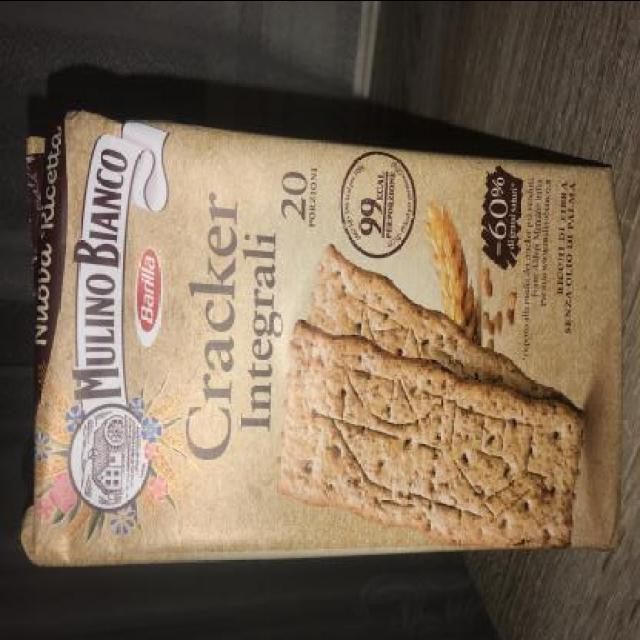Cracker: (15, 118, 627, 564)
